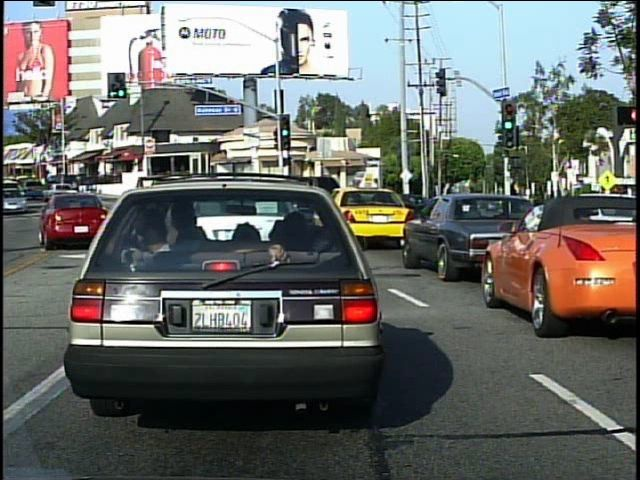person: (463, 183, 486, 229)
